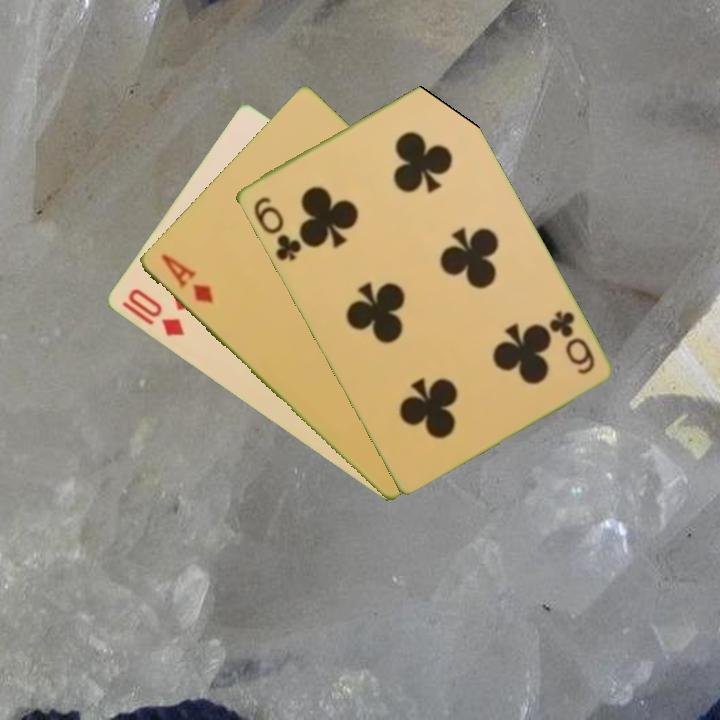10d: (123, 285, 187, 340)
6c: (249, 193, 304, 264), (545, 306, 598, 378)
Ad: (157, 250, 216, 307)
